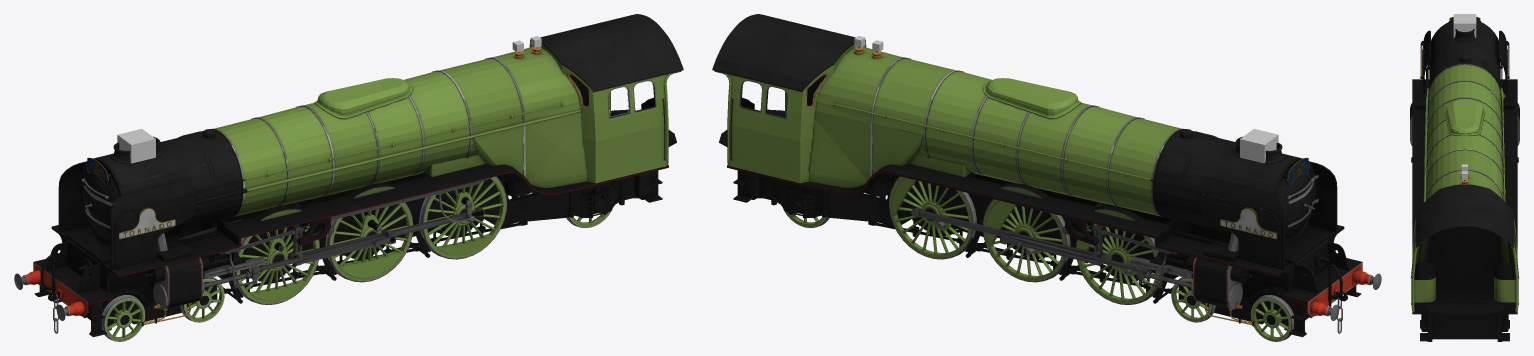
File: a1_peppercorn.obj
3 views of the same model, side by side, from view 1: azimuth 30°, elevation 25°; view 2: azimuth 150°, elevation 25°; view 3: azimuth 270°, elevation 25° (orthographic). The views are drawn at different scales.
Visible parts, largest first — view 1: BOILER_SEGMENT_2_Cylinder.025, SMOKEBOX_Cylinder.034, CAB_Cylinder.029, SHELL_Cylinder.035, FRAME_Cylinder.038, STEAM_CHEST_Cylinder.043, BOGEY_REAR_Cylinder.001, WHEEL_DRIVER_3_Cylinder.018, WHEEL_DRIVER_2_Cylinder.017, WHEEL_DRIVER_1_Cylinder.016, BOGEY_FRONT_WHEEL_1_Cylinder.014, SIDE_ROD_LEFT_Cylinder.020 (+5 smaller); view 2: BOILER_SEGMENT_2_Cylinder.025, SMOKEBOX_Cylinder.034, CAB_Cylinder.029, SHELL_Cylinder.035, FRAME_Cylinder.038, STEAM_CHEST_Cylinder.043, BOGEY_REAR_Cylinder.001, WHEEL_DRIVER_3_Cylinder.018, WHEEL_DRIVER_2_Cylinder.017, WHEEL_DRIVER_1_Cylinder.016, BOGEY_FRONT_WHEEL_1_Cylinder.014, SIDE_ROD_RIGHT_Cylinder.058 (+5 smaller); view 3: BOILER_SEGMENT_2_Cylinder.025, CAB_Cylinder.029, SMOKEBOX_Cylinder.034, SHELL_Cylinder.035, FIREBOX_Cylinder.031, BOGEY_REAR_Cylinder.001, STEAM_CHEST_Cylinder.043, CHIMNEY_0_Cube.023.
Boxes of the visible parts, x1=… form: BOILER_SEGMENT_2_Cylinder.025: x1=194, y1=47, x2=588, y2=218; SMOKEBOX_Cylinder.034: x1=58, y1=129, x2=242, y2=269; CAB_Cylinder.029: x1=529, y1=14, x2=683, y2=183; SHELL_Cylinder.035: x1=14, y1=164, x2=668, y2=337; FRAME_Cylinder.038: x1=89, y1=174, x2=527, y2=308; STEAM_CHEST_Cylinder.043: x1=78, y1=227, x2=265, y2=326; BOGEY_REAR_Cylinder.001: x1=517, y1=170, x2=662, y2=222; WHEEL_DRIVER_3_Cylinder.018: x1=419, y1=176, x2=507, y2=259; WHEEL_DRIVER_2_Cylinder.017: x1=325, y1=202, x2=413, y2=282; WHEEL_DRIVER_1_Cylinder.016: x1=234, y1=223, x2=319, y2=304; BOGEY_FRONT_WHEEL_1_Cylinder.014: x1=78, y1=295, x2=145, y2=341; SIDE_ROD_LEFT_Cylinder.020: x1=287, y1=207, x2=484, y2=259; BOILER_SEGMENT_2_Cylinder.025: x1=807, y1=47, x2=1201, y2=218; SMOKEBOX_Cylinder.034: x1=1153, y1=129, x2=1337, y2=269; CAB_Cylinder.029: x1=712, y1=14, x2=866, y2=183; SHELL_Cylinder.035: x1=727, y1=164, x2=1381, y2=337; FRAME_Cylinder.038: x1=868, y1=174, x2=1306, y2=308; STEAM_CHEST_Cylinder.043: x1=1130, y1=227, x2=1329, y2=326; BOGEY_REAR_Cylinder.001: x1=733, y1=170, x2=878, y2=222; WHEEL_DRIVER_3_Cylinder.018: x1=889, y1=176, x2=976, y2=259; WHEEL_DRIVER_2_Cylinder.017: x1=982, y1=199, x2=1070, y2=282; WHEEL_DRIVER_1_Cylinder.016: x1=1076, y1=223, x2=1178, y2=304; BOGEY_FRONT_WHEEL_1_Cylinder.014: x1=1250, y1=295, x2=1317, y2=341; SIDE_ROD_RIGHT_Cylinder.058: x1=911, y1=207, x2=1108, y2=259; BOILER_SEGMENT_2_Cylinder.025: x1=1420, y1=63, x2=1509, y2=262; CAB_Cylinder.029: x1=1410, y1=184, x2=1519, y2=314; SMOKEBOX_Cylinder.034: x1=1420, y1=17, x2=1509, y2=93; SHELL_Cylinder.035: x1=1411, y1=79, x2=1518, y2=314; FIREBOX_Cylinder.031: x1=1429, y1=227, x2=1500, y2=284; BOGEY_REAR_Cylinder.001: x1=1420, y1=314, x2=1509, y2=341; STEAM_CHEST_Cylinder.043: x1=1410, y1=87, x2=1519, y2=145; CHIMNEY_0_Cube.023: x1=1453, y1=14, x2=1476, y2=37.
Size of the model in its own units: 14.88 by 4.22 by 2.86.
Materials: 3 (2 with a texture image).
